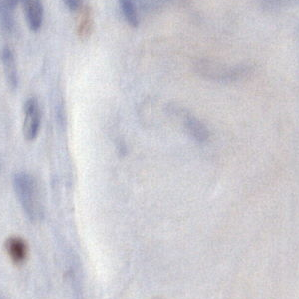Lymphocyte: (6, 233, 29, 262)
